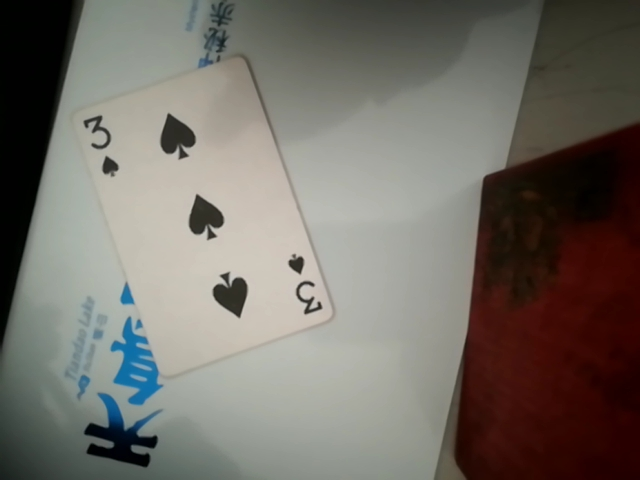ht 3: (84, 56, 327, 379)
